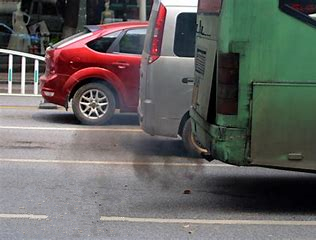smoke: (76, 126, 212, 191)
